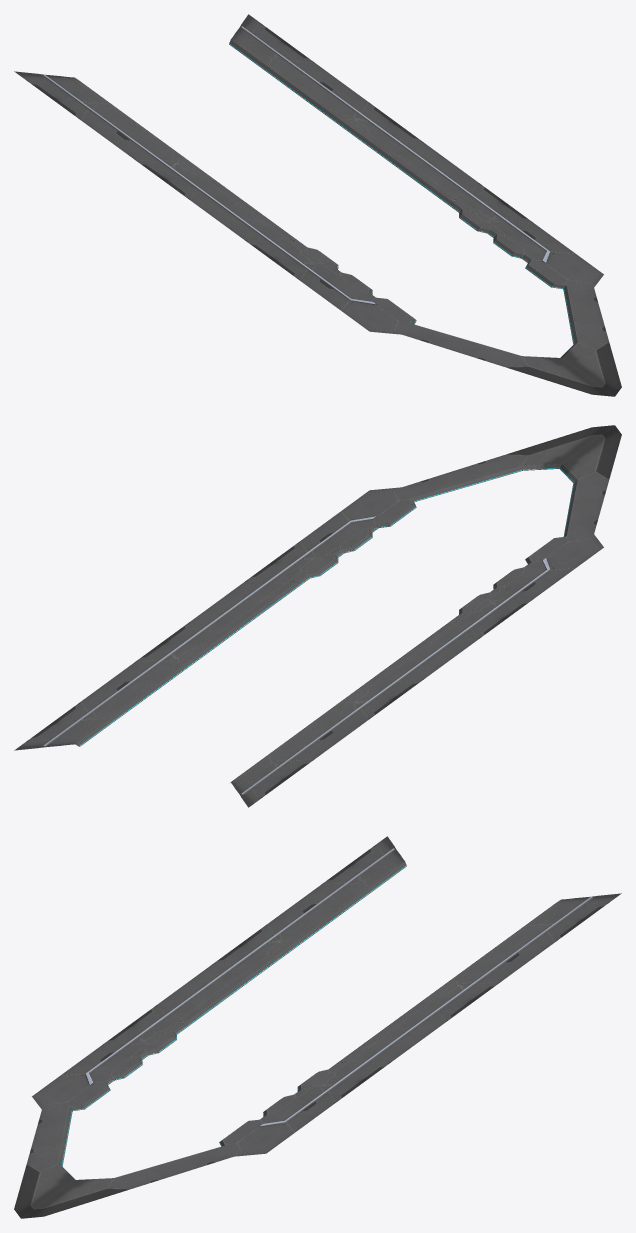
File: ShipFloorCollider2.fbx
3 views of the same model, one above another, from view 1: azimuth 30°, elevation 25°; view 2: azimuth 150°, elevation 25°; view 3: azimuth 330°, elevation 25° (orthographic).
Visible parts, largest first — view 1: Stage_Hyperion_C03; view 2: Stage_Hyperion_C03; view 3: Stage_Hyperion_C03.
Boxes of the visible parts, x1,y1,x2,y2 form: Stage_Hyperion_C03: [14, 14, 621, 396]; Stage_Hyperion_C03: [14, 425, 621, 807]; Stage_Hyperion_C03: [14, 836, 621, 1218].
Bounding box in the file's own units: 159 × 2.29 × 569.
